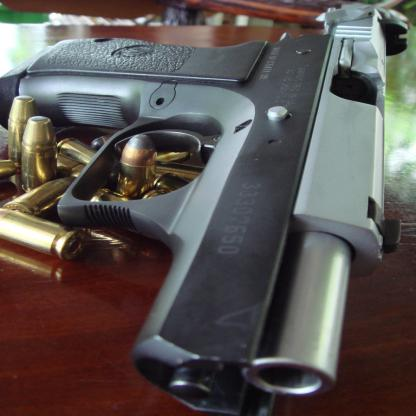Handgun: (0, 3, 408, 415)
